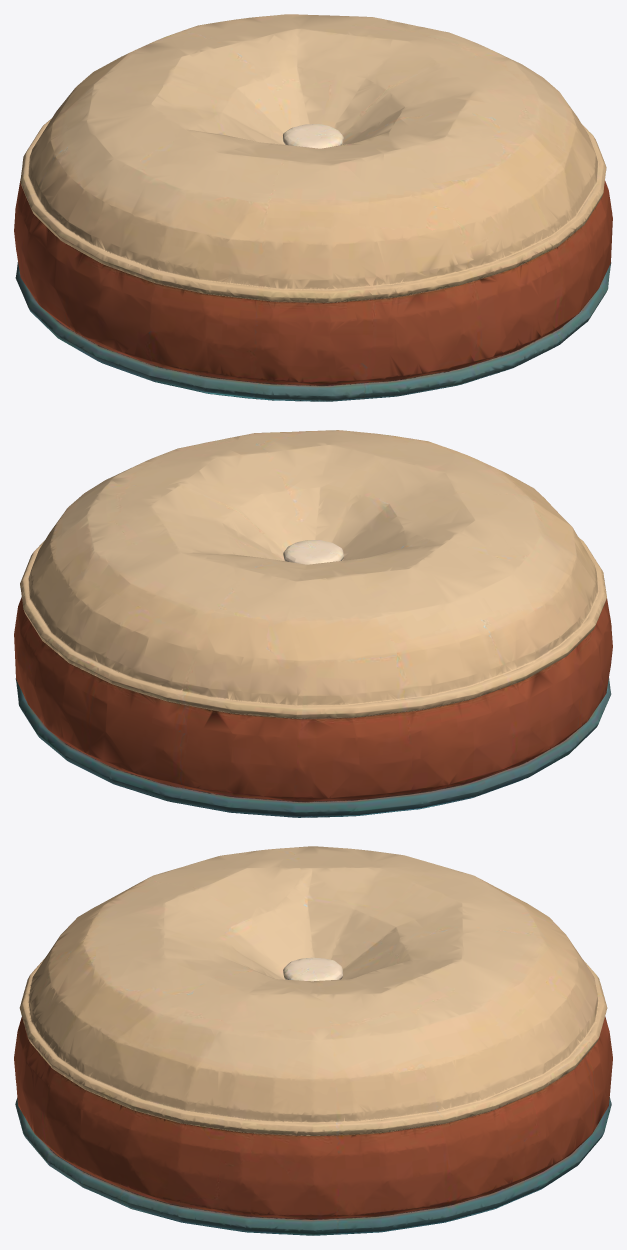
The model's file is majlis-cushion-variant-10-minimal-sand.glb.
3 views of the same model, one above another, from view 1: azimuth 30°, elevation 25°; view 2: azimuth 150°, elevation 25°; view 3: azimuth 270°, elevation 25° (orthographic).
Parts seen in each view (by area): view 1: mesh_node; view 2: mesh_node; view 3: mesh_node.
Boxes of the visible parts, x1,y1,x2,y2 form: mesh_node: (14, 14, 612, 401); mesh_node: (14, 430, 612, 817); mesh_node: (14, 846, 612, 1235).
Size of the model in its own units: 1.9 by 0.6413 by 1.9.
Materials: 1 (1 with a texture image).
